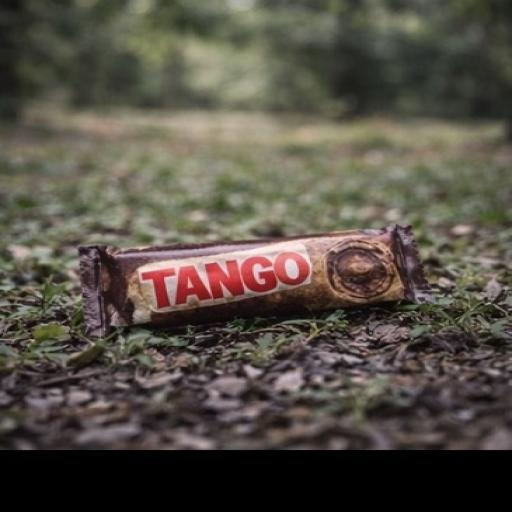tango: (53, 202, 463, 381)
